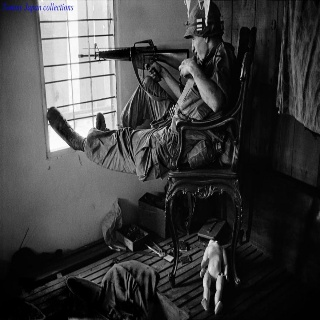rifle: (77, 37, 189, 79)
